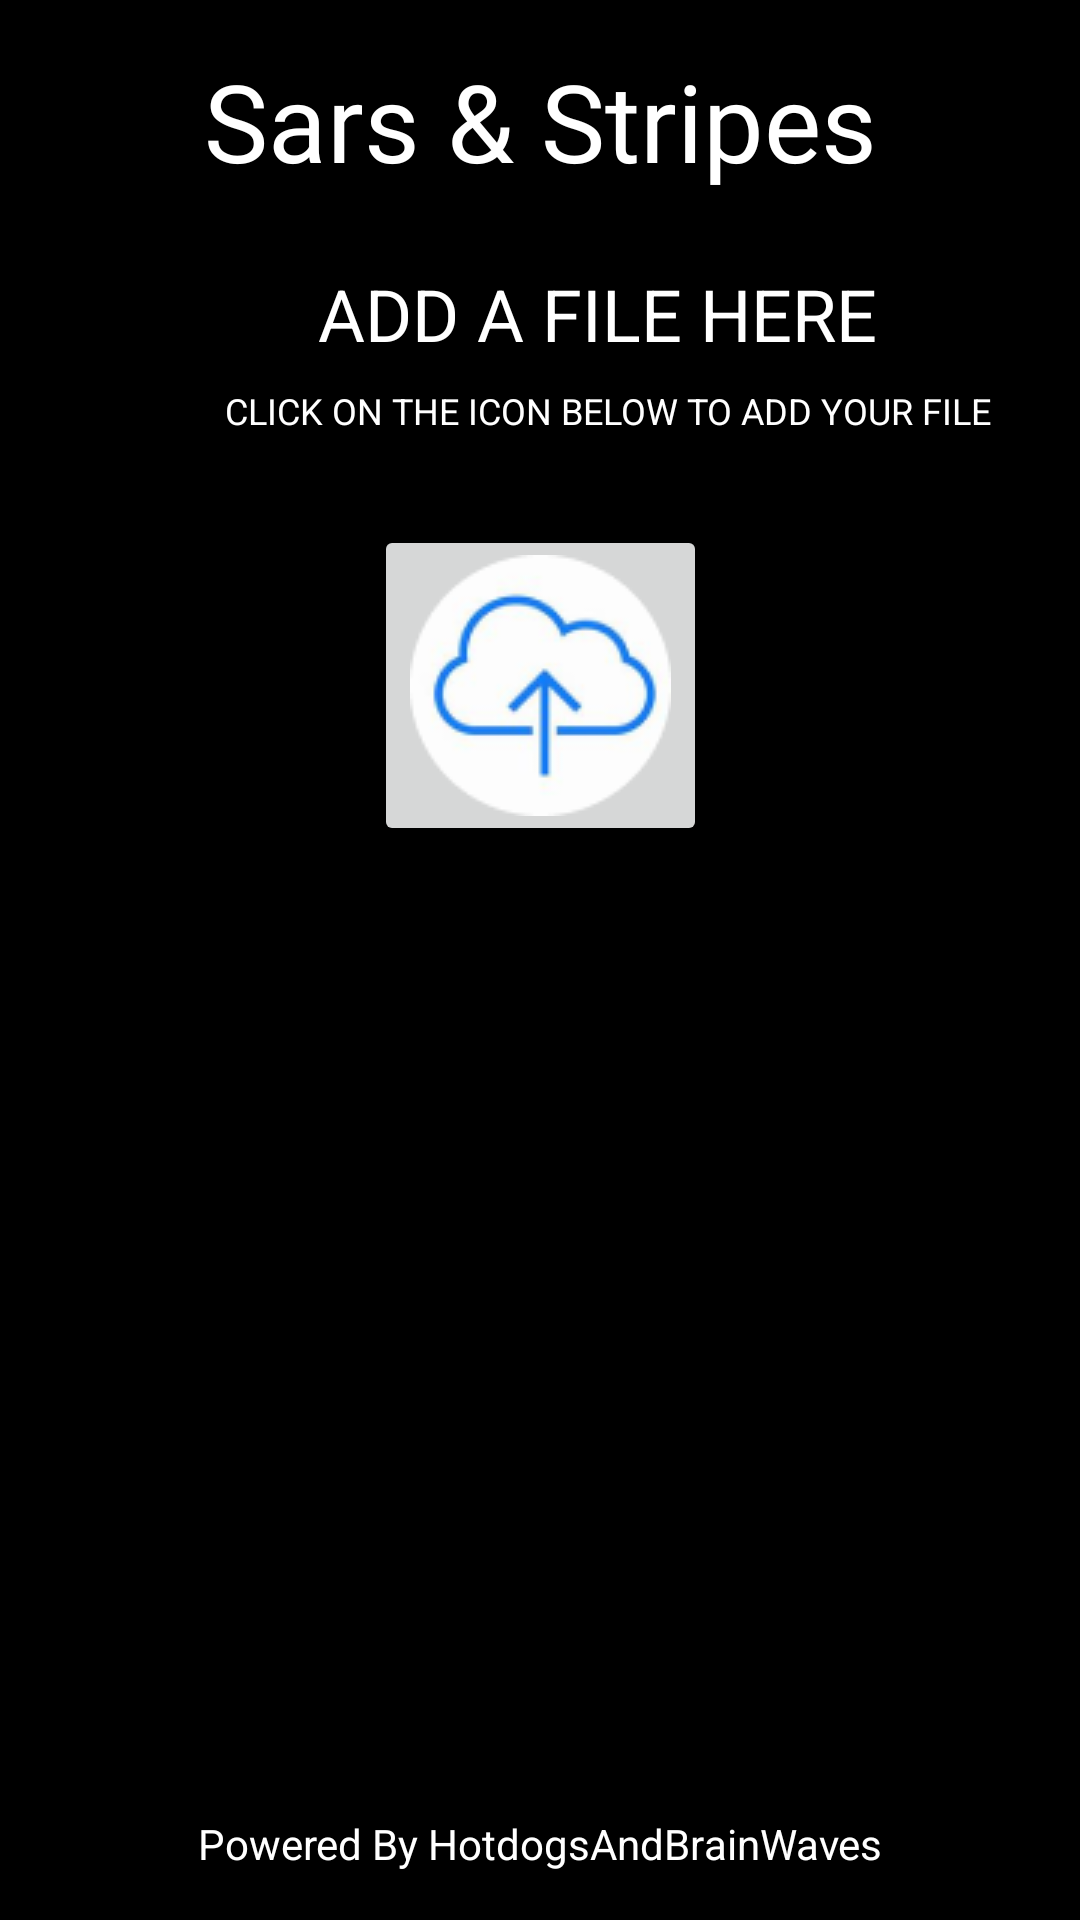

Named icons in this screenshot (1080*1920) and their bounding boxes, box=[x1, y1, x2, y2]:
upload: box=[386, 543, 695, 828]
